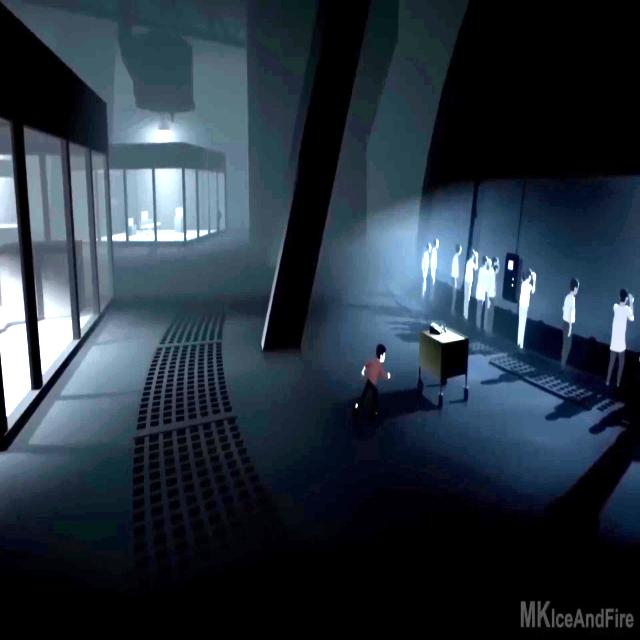boy: (354, 344, 390, 427)
human: (607, 289, 634, 392), (518, 267, 536, 358), (562, 278, 579, 366), (486, 262, 501, 335), (464, 245, 478, 322), (451, 243, 462, 311), (422, 242, 432, 302), (432, 238, 440, 304)
